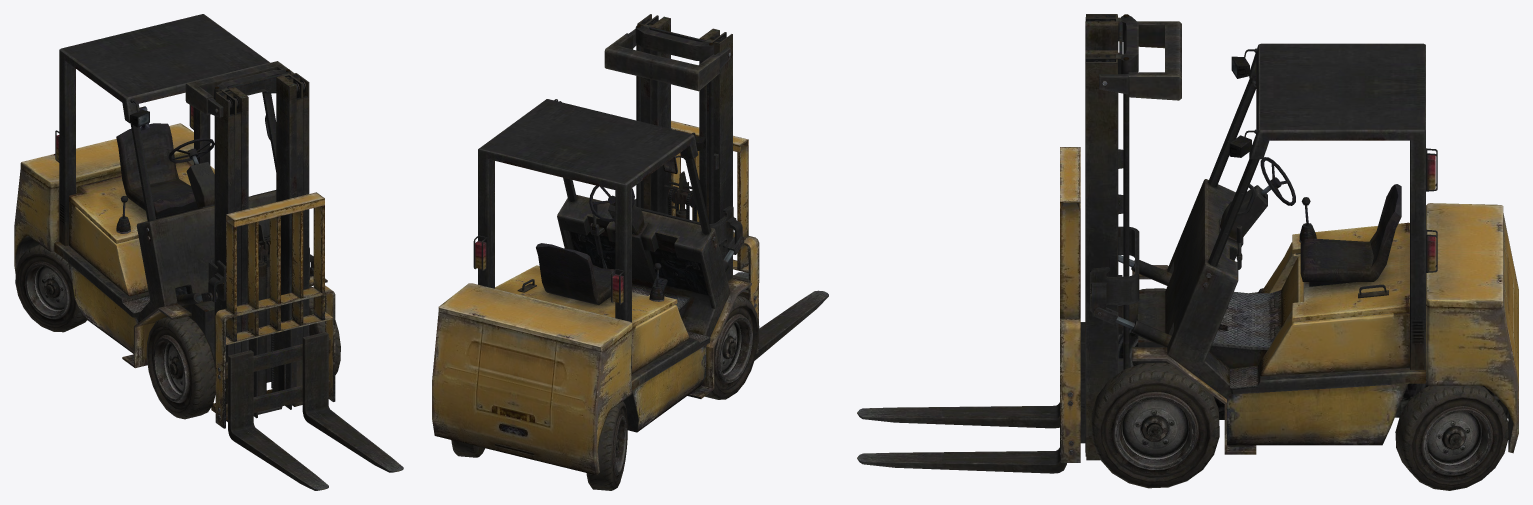
The model's file is empilhadeira_generica_v1.glb.
The picture shows the model from 3 angles, left to right: view 1: azimuth 30°, elevation 25°; view 2: azimuth 150°, elevation 25°; view 3: azimuth 270°, elevation 25°; orthographic projection. The views are drawn at different scales.
Parts seen in each view (by area): view 1: Object_3, Object_2, Object_4; view 2: Object_3, Object_2; view 3: Object_3, Object_2, Object_4.
Part boxes in pixels (box(x1,y1,x2,y2)): Object_3: box(14, 14, 403, 490); Object_2: box(15, 244, 340, 419); Object_4: box(15, 235, 291, 418); Object_3: box(432, 14, 828, 475); Object_2: box(451, 295, 759, 490); Object_3: box(857, 14, 1518, 473); Object_2: box(1091, 288, 1508, 490); Object_4: box(1080, 253, 1513, 450).
Size of the model in its own units: 0.9564 by 1.7 by 2.5.
3 materials, 3 textured.
